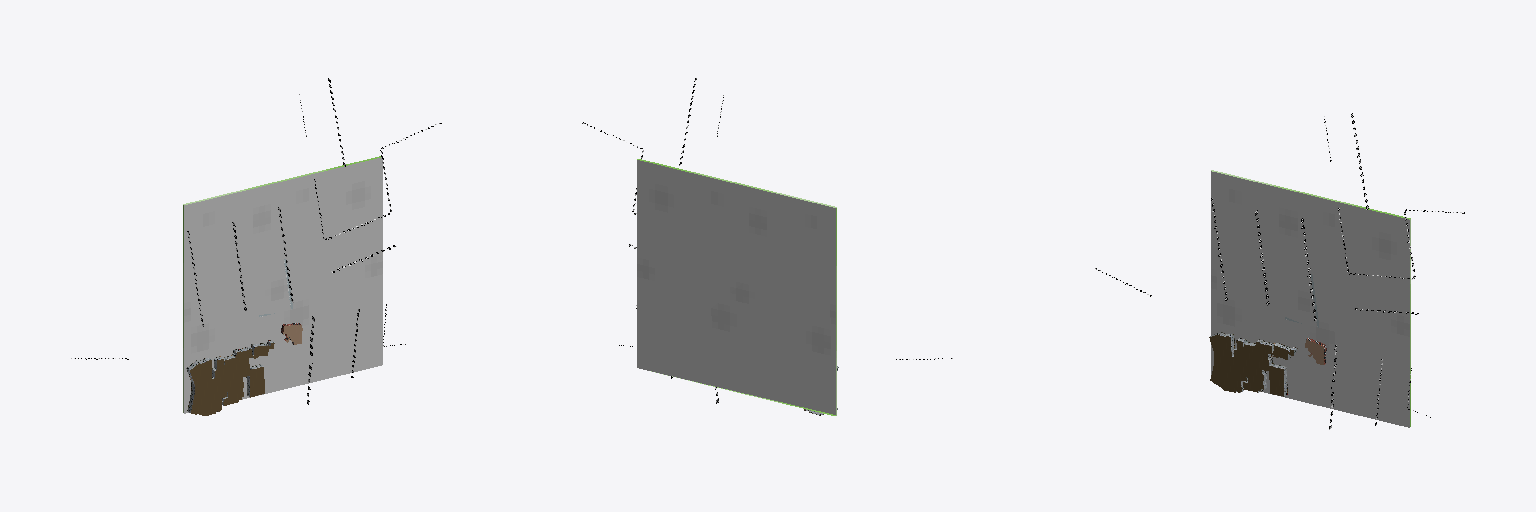
3 views of the same model, side by side, from view 1: azimuth 30°, elevation 25°; view 2: azimuth 150°, elevation 25°; view 3: azimuth 330°, elevation 25° (orthographic).
Visible parts, largest first — view 1: POLYGON, BUILDING, FONT; view 2: POLYGON; view 3: POLYGON, BUILDING, FONT.
Boxes of the visible parts, box(x1,y1,x2,y2) form: POLYGON: box(183, 156, 382, 413); BUILDING: box(186, 323, 302, 415); FONT: box(71, 78, 441, 404); POLYGON: box(637, 159, 836, 415); POLYGON: box(1211, 170, 1410, 427); BUILDING: box(1209, 332, 1326, 396); FONT: box(1095, 113, 1464, 429).
Bounding box in the file's own units: 1140 × 947 × 28.
4 materials, 4 textured.